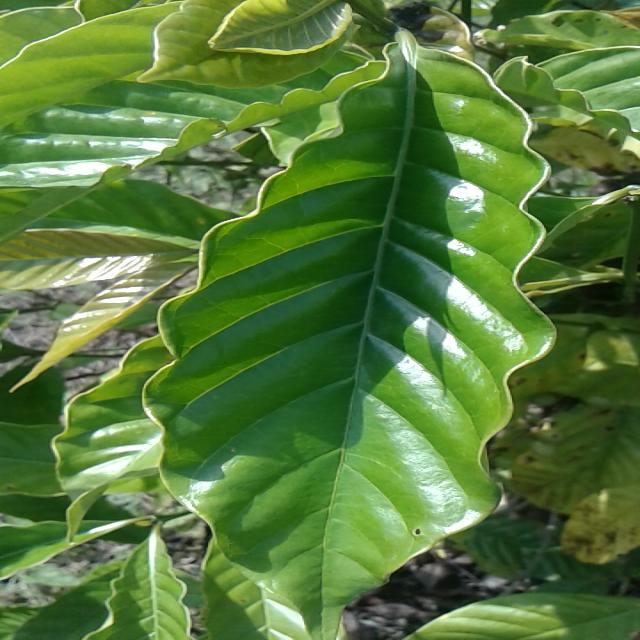Sanas: (135, 6, 556, 640)
